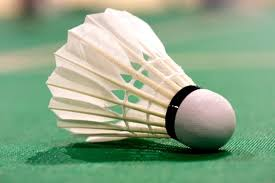shuttle: (36, 7, 236, 159)
